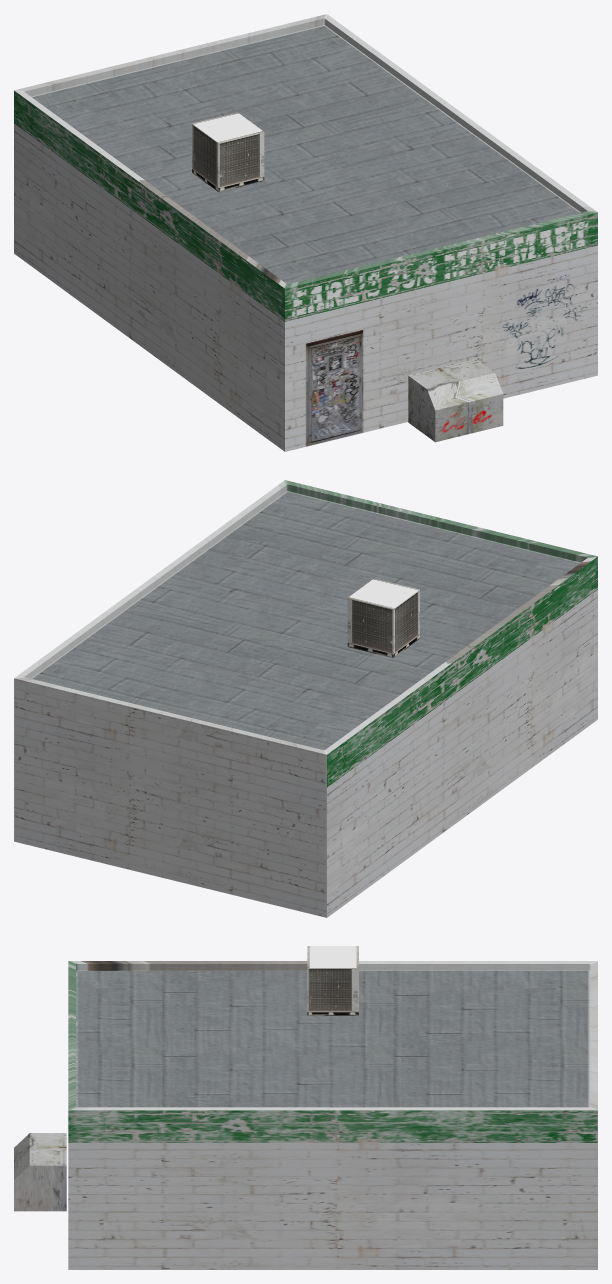
Rendered from SmallStoreModel.fbx.
3 renders of one model, top to bottom at view 1: azimuth 30°, elevation 25°; view 2: azimuth 150°, elevation 25°; view 3: azimuth 270°, elevation 25°, orthographic. The views are drawn at different scales.
Visible parts, largest first — view 1: polySurface2; view 2: polySurface2; view 3: polySurface2.
Part boxes in pixels (left/top/right/bottom): polySurface2: left=14, top=14, right=597, bottom=451; polySurface2: left=14, top=480, right=597, bottom=917; polySurface2: left=14, top=946, right=597, bottom=1269.
Size of the model in its own units: 12 by 7.54 by 19.84.
1 material, 1 textured.
